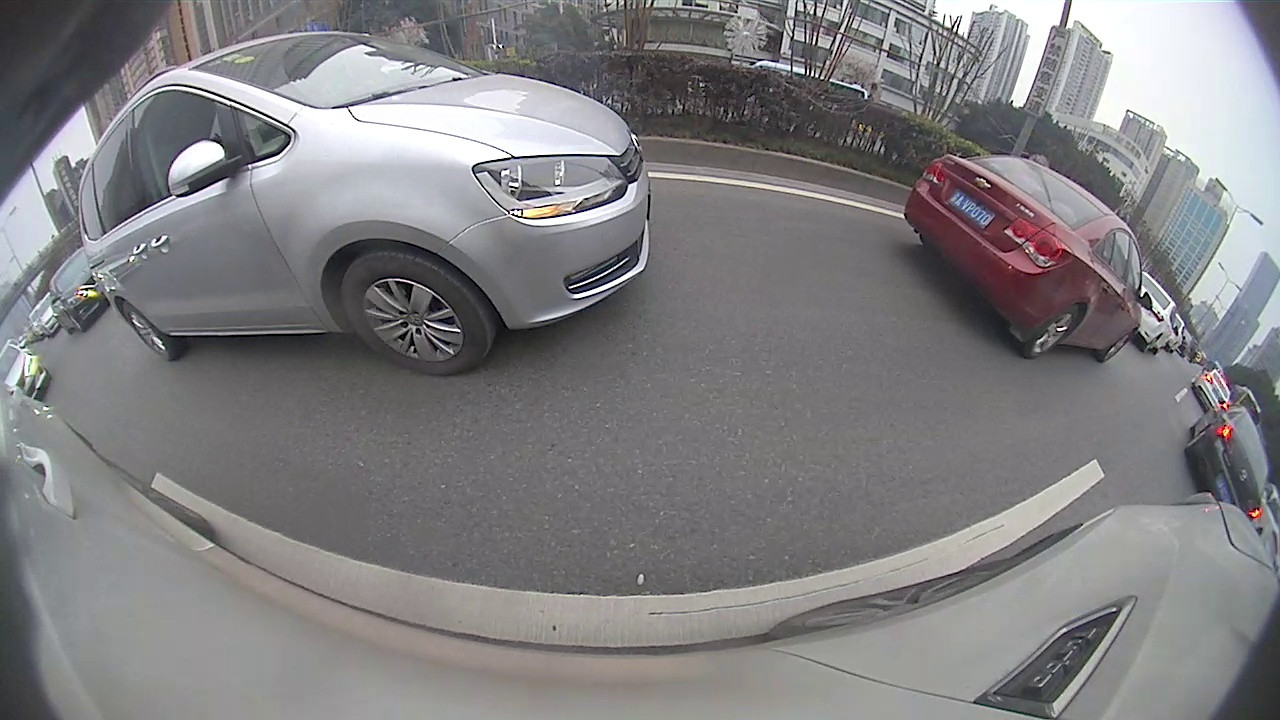car: (77, 30, 652, 378), (902, 153, 1156, 366), (1183, 395, 1270, 523), (46, 248, 108, 334), (1190, 363, 1233, 416)
front: (342, 251, 491, 380)
rear: (117, 298, 176, 363), (1018, 308, 1084, 362)
